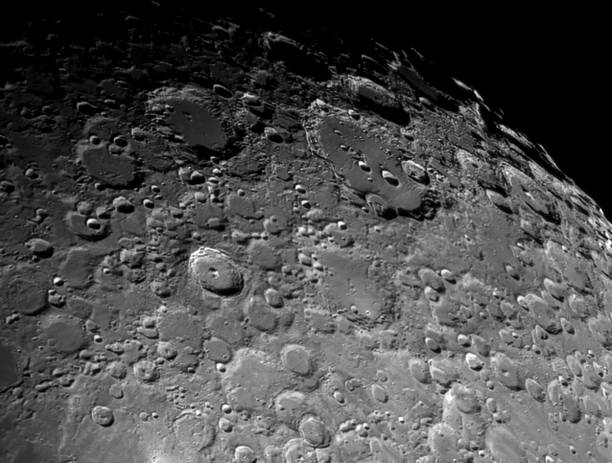crater: (307, 99, 440, 225), (151, 87, 243, 164), (75, 139, 152, 193), (346, 76, 415, 128), (187, 247, 246, 299), (401, 161, 432, 189), (366, 192, 394, 222), (90, 405, 119, 430)
